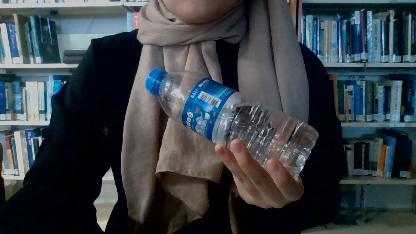Plastic Bottle: (142, 72, 324, 172)
